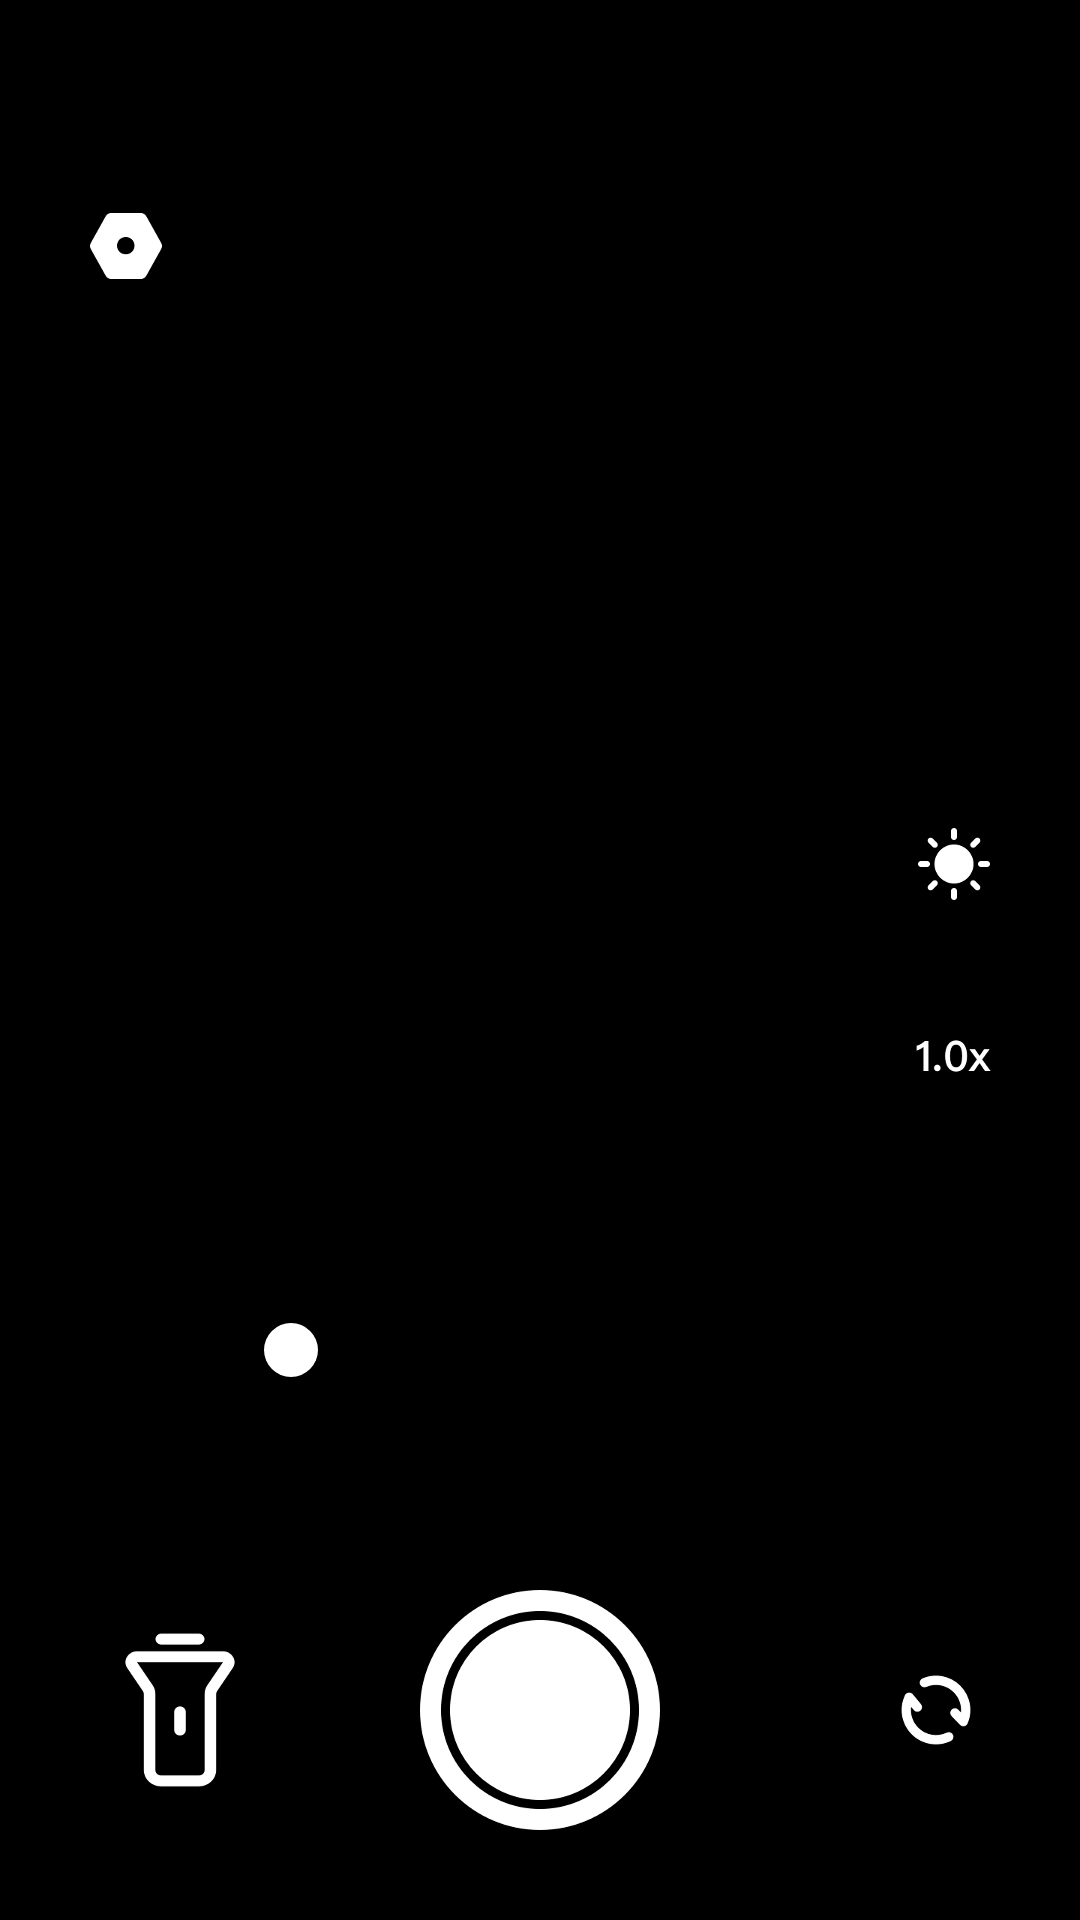

Locate icon controls on the screen. Image size 1080px x 1920px, boxes as (x1, y1, x2, y2).
flashlight: (125, 1633, 235, 1787)
reverse: (901, 1675, 971, 1745)
take: (420, 1590, 660, 1830)
